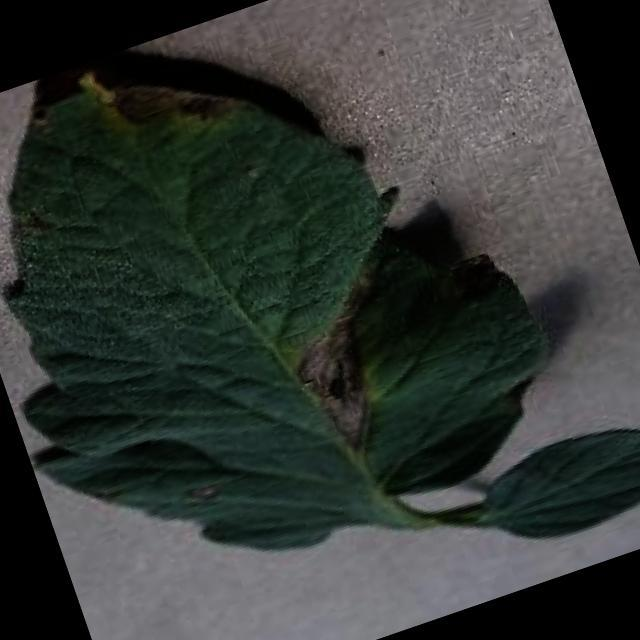Tomato Early blight leaf: (0, 0, 584, 606)
